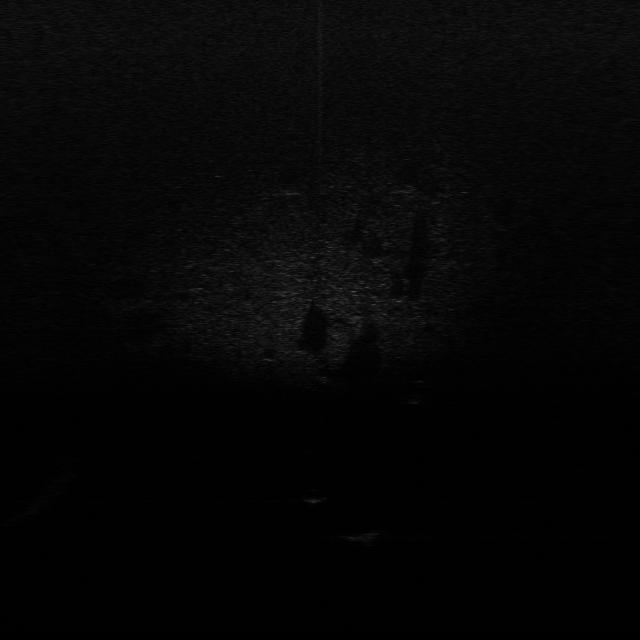ball: (293, 490, 332, 506)
square cage: (340, 526, 384, 546)
tyre: (407, 380, 431, 405)
